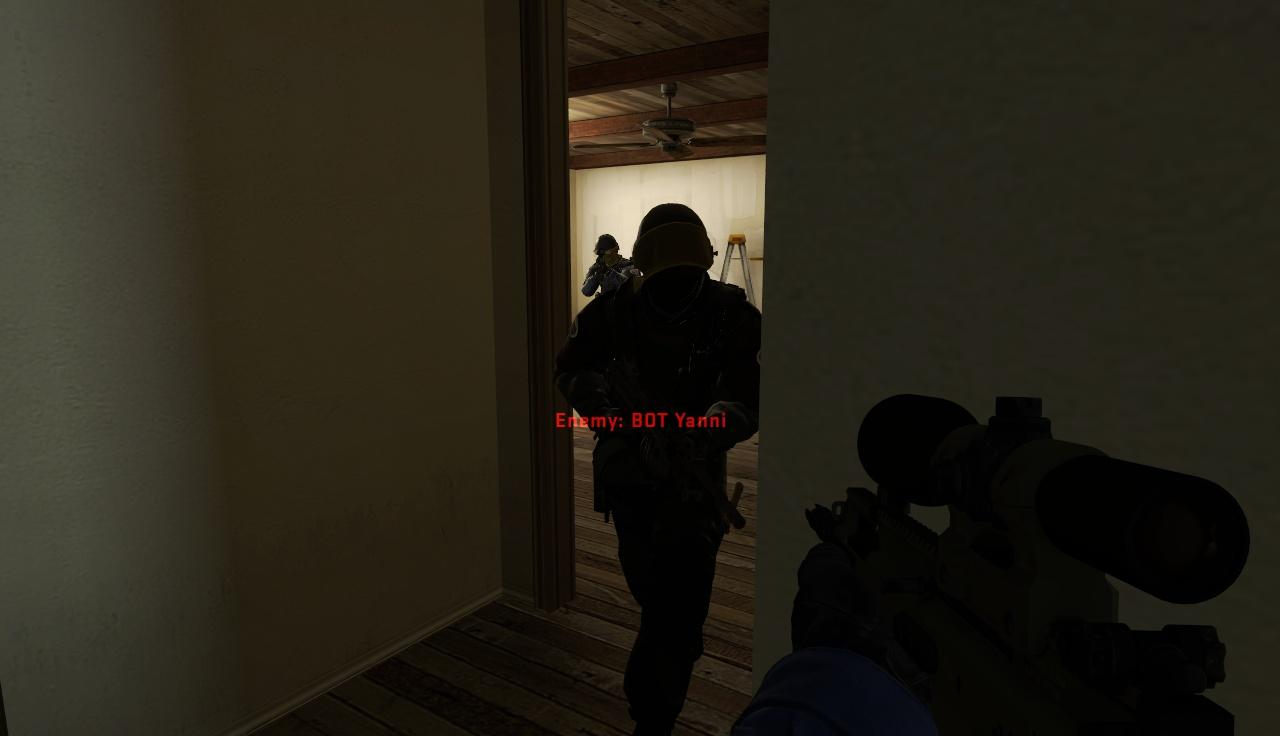ct: (566, 203, 759, 678), (585, 233, 631, 284)
cthead: (637, 203, 711, 284), (595, 234, 619, 260)
sniper: (802, 392, 1280, 736)
